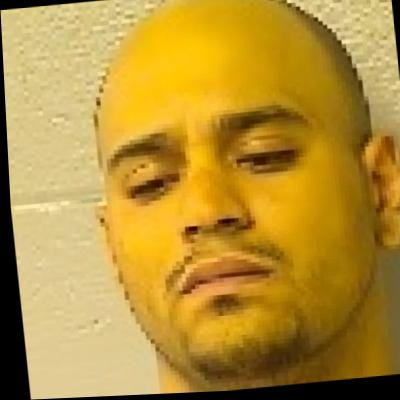sad: (86, 3, 391, 375)
